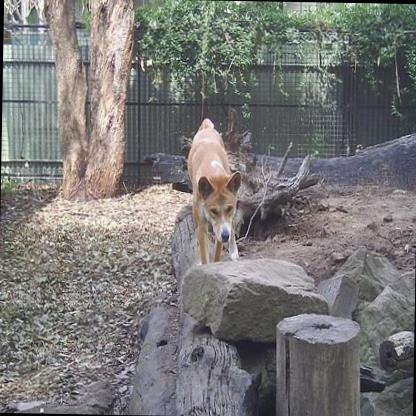dingo: (182, 115, 242, 262)
